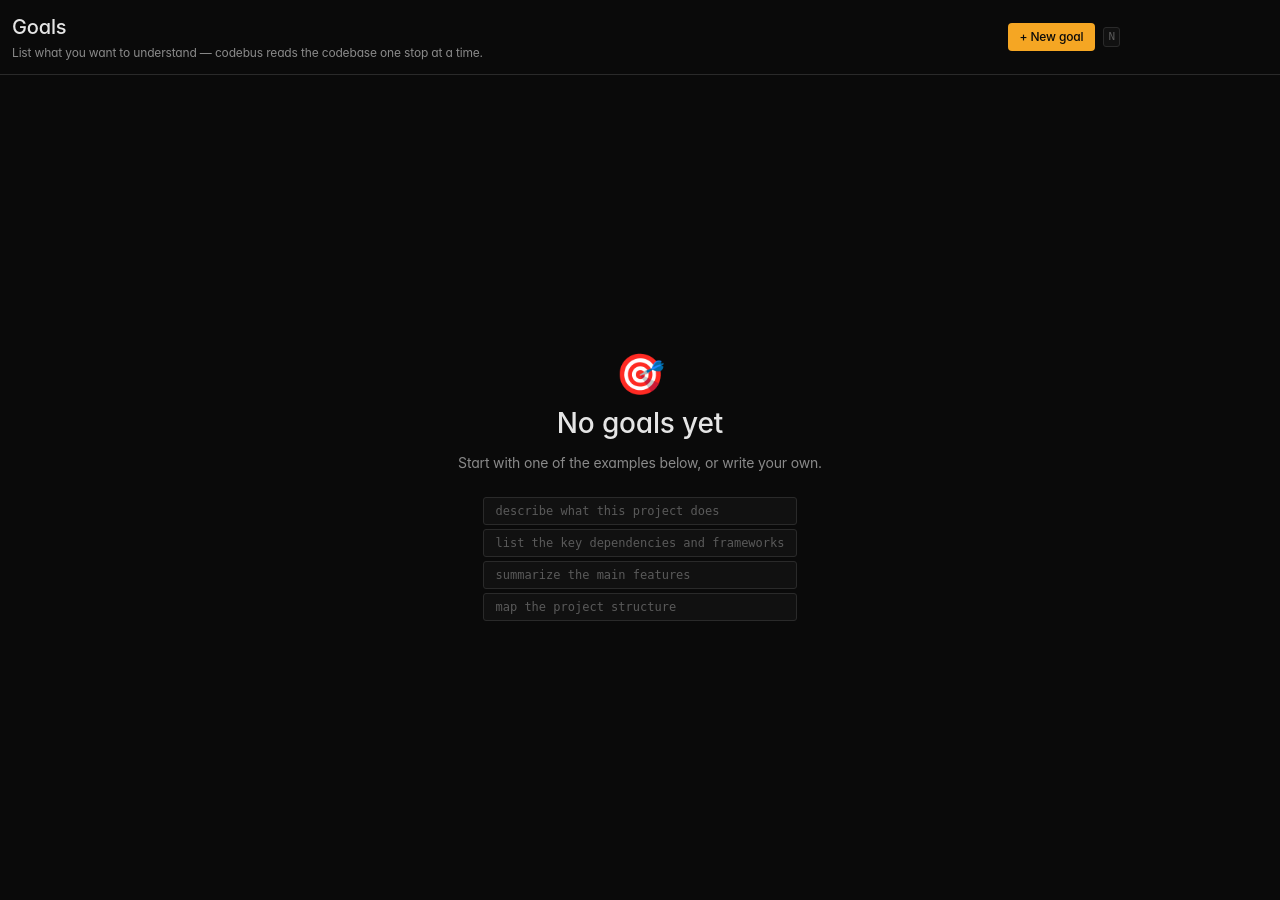
Scenario: GoalsTab › GoalsTab_empty_state_shows_three_region_layout_with_i18n_prefill_examples
The width and height of the screenshot is (1280, 900).
Check: the element with test id "tab-content-header-goals" is shown, box [0,0,1279,75]
Check: the element with test id "goals-empty-hero" shows "No goals yet", box [557,406,723,440]
# Clicking opens the modal with that example pre-filled.
What coordinates should you click on to do the following:
click the button with test id "goals-empty-prefill-0"
I would click on:
 (640, 511)
Its box is [482,497,798,525].
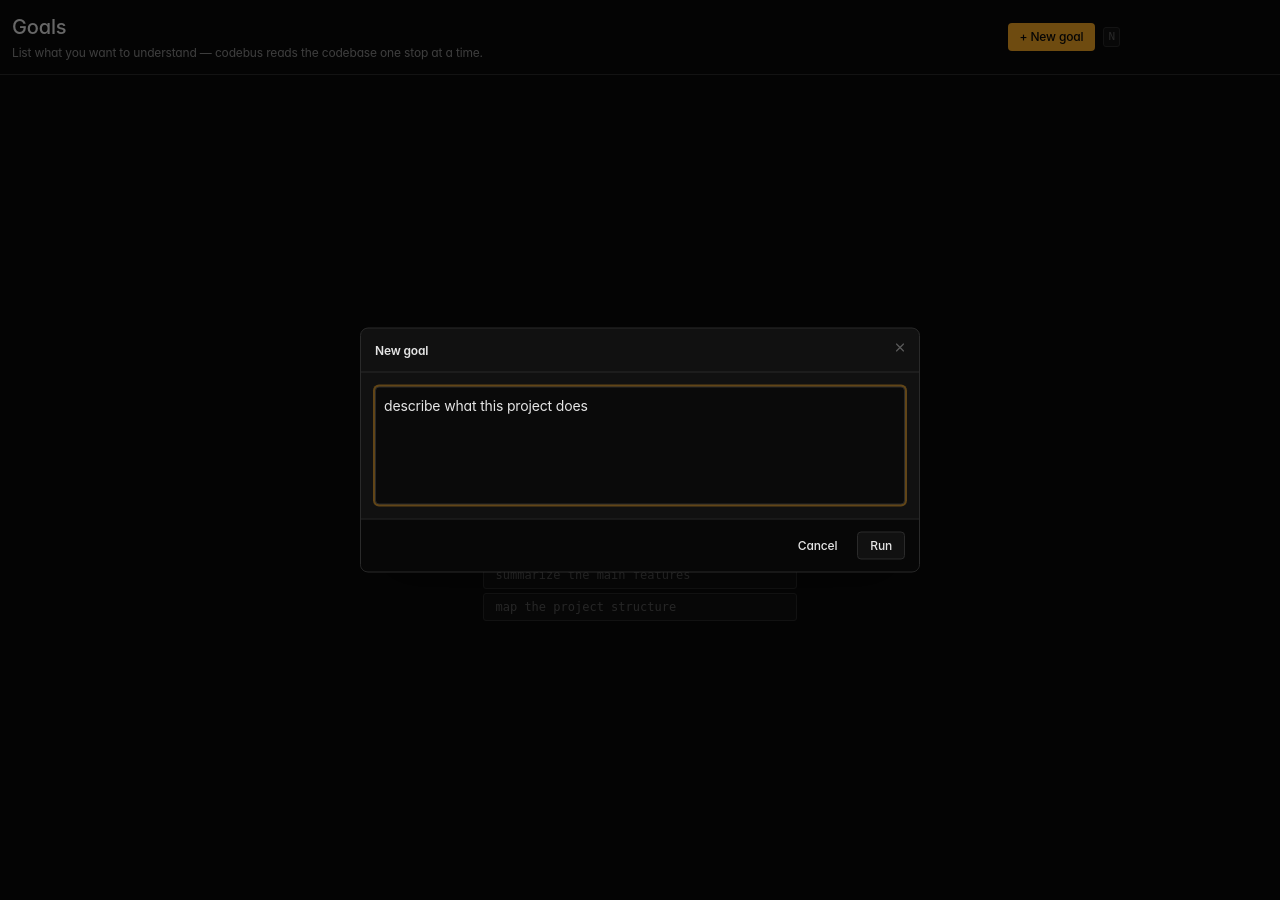
Check: the dialog with test id "new-goal-modal" is shown, box [360,328,920,572]
Check: the text box with test id "new-goal-textarea" holds "describe what this project does", box [375,386,905,504]
